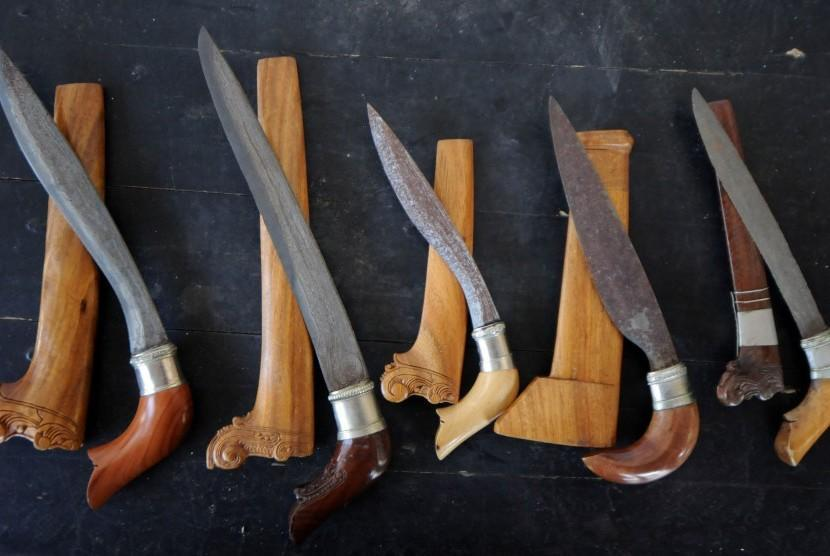facao: (177, 13, 391, 538), (0, 48, 208, 512), (527, 55, 714, 487), (355, 76, 537, 465), (680, 70, 830, 478)
